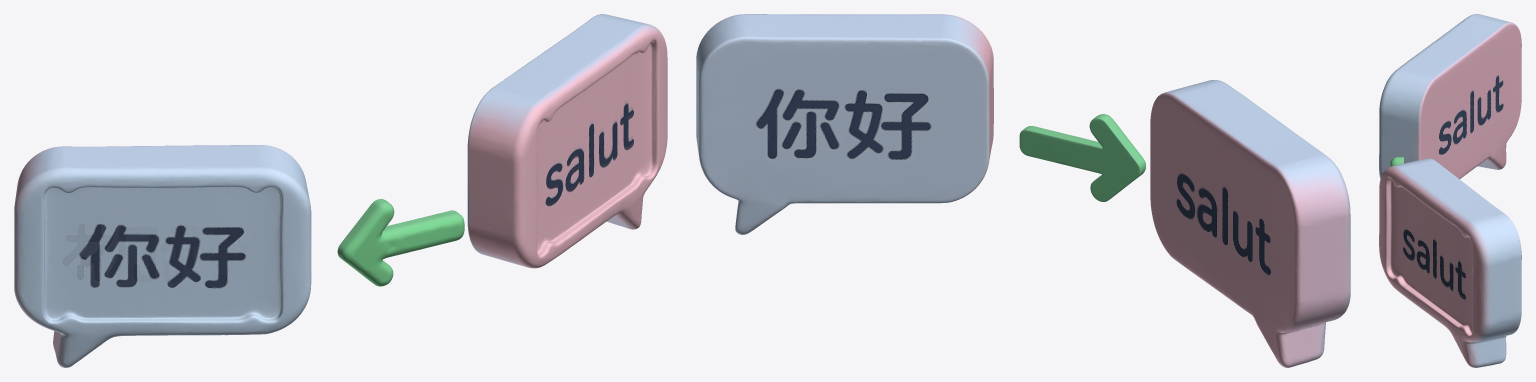
Rendered from voxBridge-draco-defaut.glb.
3 views of the same model, side by side, from view 1: azimuth 30°, elevation 25°; view 2: azimuth 150°, elevation 25°; view 3: azimuth 270°, elevation 25° (orthographic). The views are drawn at different scales.
Size of the model in its own units: 1.9 by 0.5654 by 0.4946.
Materials: 1 (1 with a texture image).
